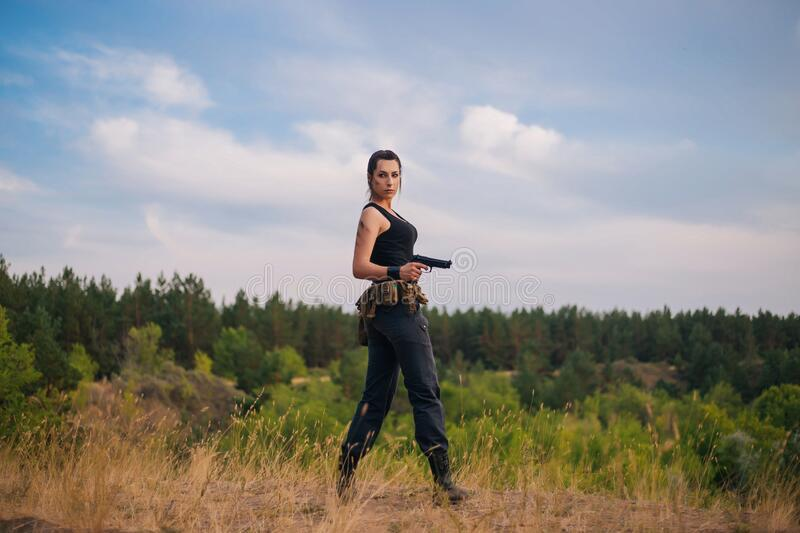criminal: (334, 148, 475, 507)
weapon: (404, 252, 458, 286)
